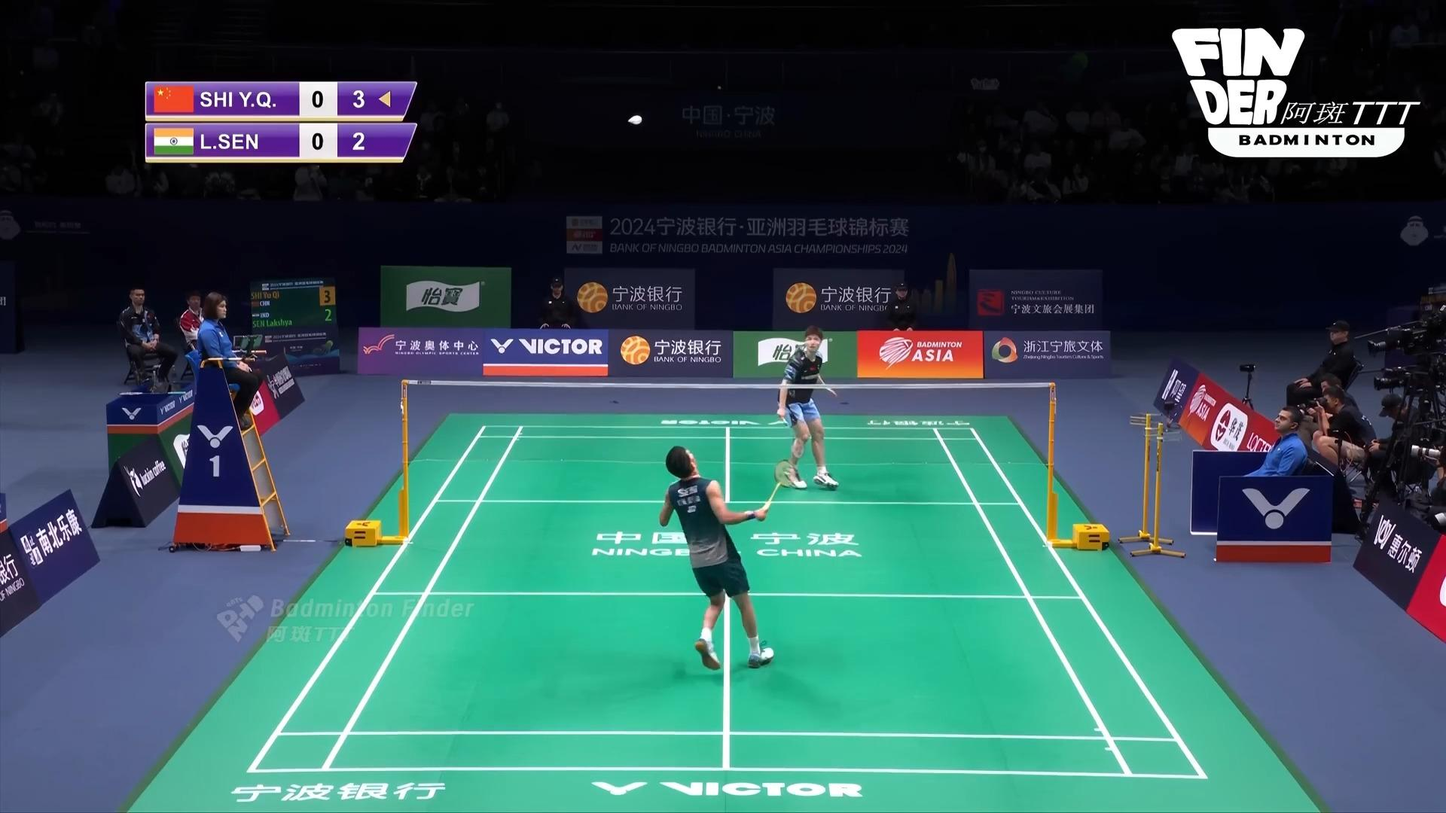player: (659, 446, 773, 670), (776, 325, 840, 489)
shuttlecock: (628, 116, 642, 124)
